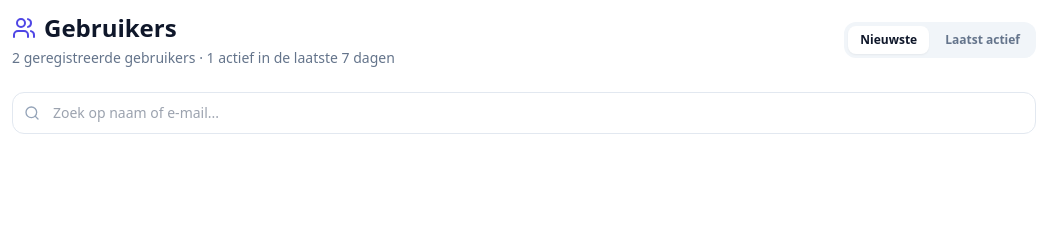
Scenario: AdminUsers › filters users by name or email via the search input
Step 1. Type "Two" into the field with placeholder "Zoek op naam of e-mail..." → coordinates (524, 113), box top-left (12, 92), bottom-right (1036, 134)
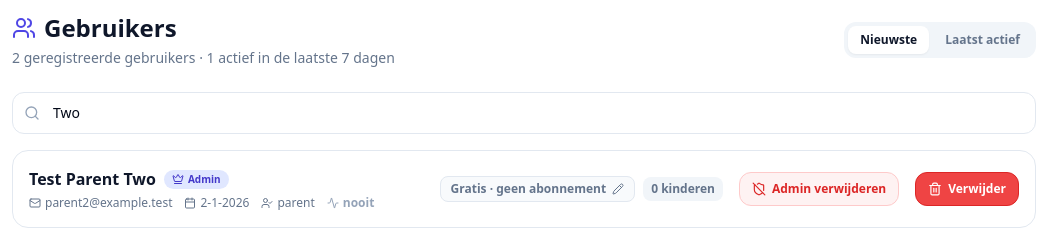
Now the heading "Test Parent Two" is shown, box top-left (29, 167), bottom-right (156, 191)
